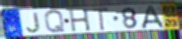8: (121, 7, 140, 30)
A: (141, 4, 166, 30)
H: (68, 8, 93, 33)
J: (25, 11, 42, 34)
Q: (43, 9, 67, 35)
T: (91, 7, 110, 32)
